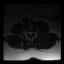CCS_normal: (30, 30, 31, 37)
LFS_stenosis: (33, 29, 34, 35)
LLS_normal: (31, 30, 33, 35)
RFS_normal: (26, 29, 28, 35)
RLS_normal: (28, 30, 30, 35)
